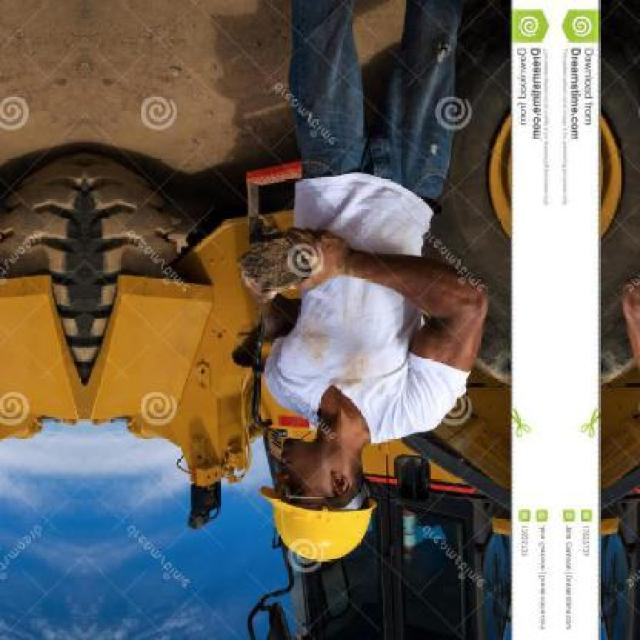safetyhelmet: (258, 448, 381, 568)
